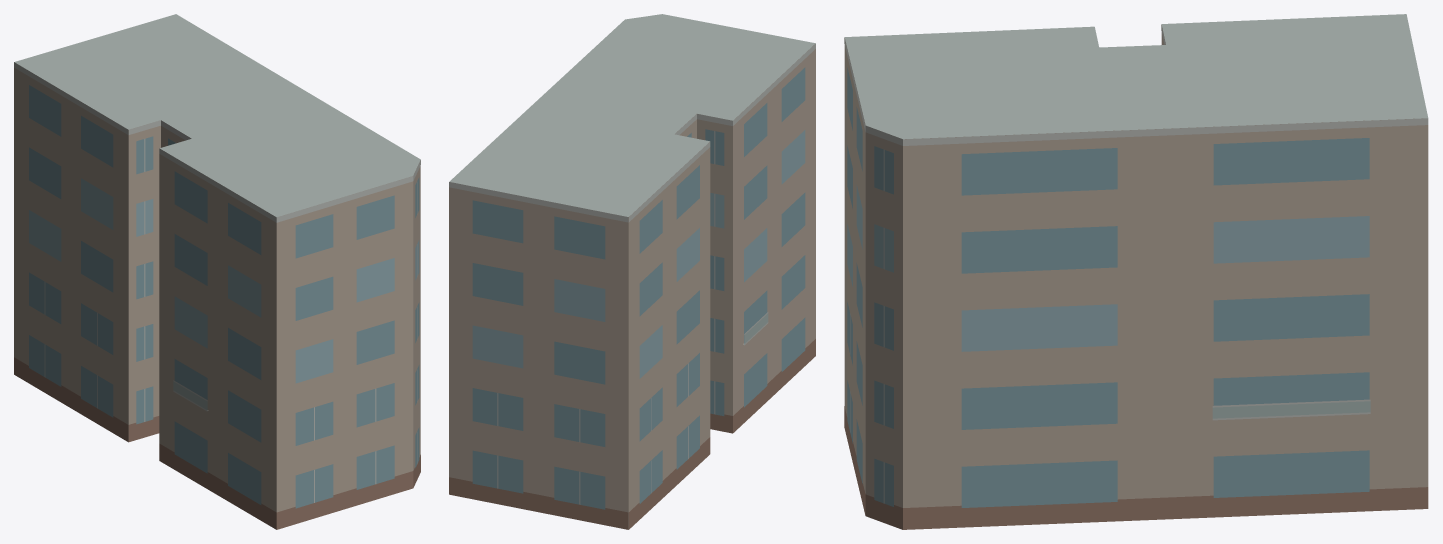
Rendered from survey-upis-32613080.glb.
3 views of the same model, side by side, from view 1: azimuth 30°, elevation 25°; view 2: azimuth 150°, elevation 25°; view 3: azimuth 270°, elevation 25° (orthographic). The views are drawn at different scales.
Visible parts, largest first — view 1: survey-upis-32613080.tmp; view 2: survey-upis-32613080.tmp; view 3: survey-upis-32613080.tmp.
Part boxes in pixels (box(x1,y1,x2,y2)): survey-upis-32613080.tmp: box(14, 14, 420, 529); survey-upis-32613080.tmp: box(449, 14, 815, 529); survey-upis-32613080.tmp: box(844, 14, 1428, 529).
Bounding box in the file's own units: 9.56 × 13.9 × 18.83.
